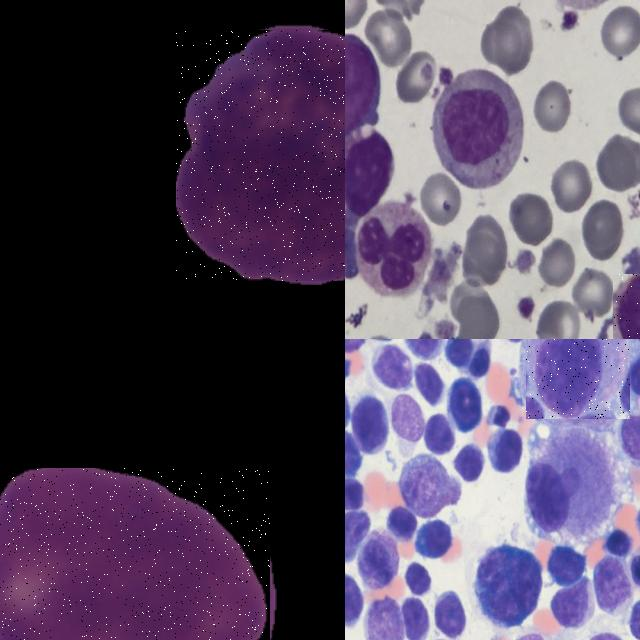ALL Negative Cells: (0, 468, 270, 640), (177, 30, 345, 281), (423, 60, 528, 190), (522, 432, 613, 541), (526, 339, 630, 419)
ALL Positive Cell: (473, 542, 539, 626), (345, 127, 405, 212), (345, 34, 383, 138), (448, 374, 486, 432), (353, 396, 387, 458), (545, 538, 586, 589), (613, 274, 640, 339), (416, 518, 452, 561), (492, 437, 522, 476), (424, 413, 454, 450), (387, 502, 413, 544), (443, 339, 483, 366), (456, 447, 485, 479), (345, 433, 358, 487)
